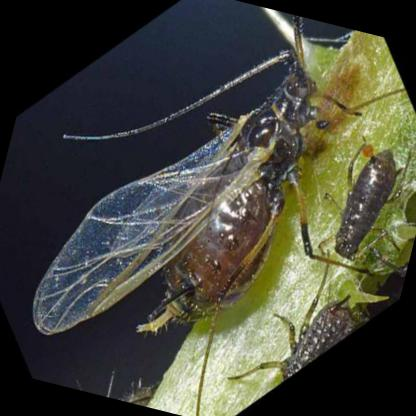uroleucon compositae: (32, 17, 323, 335)
